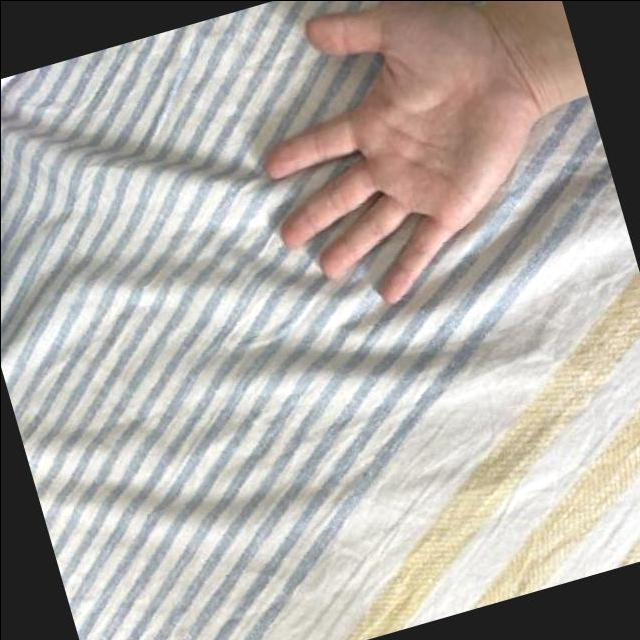hand: (261, 0, 613, 307)
